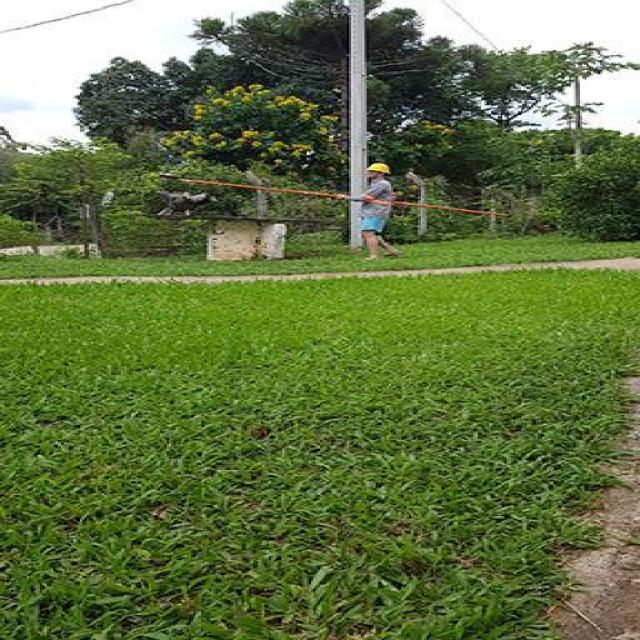hat: (362, 161, 388, 180)
